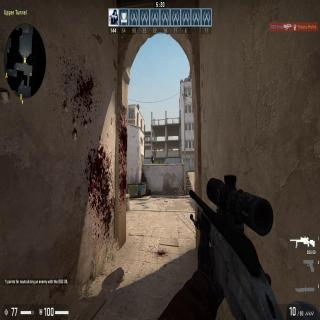CT-Body: (151, 156, 154, 163)
CT-Head: (152, 156, 154, 158)
